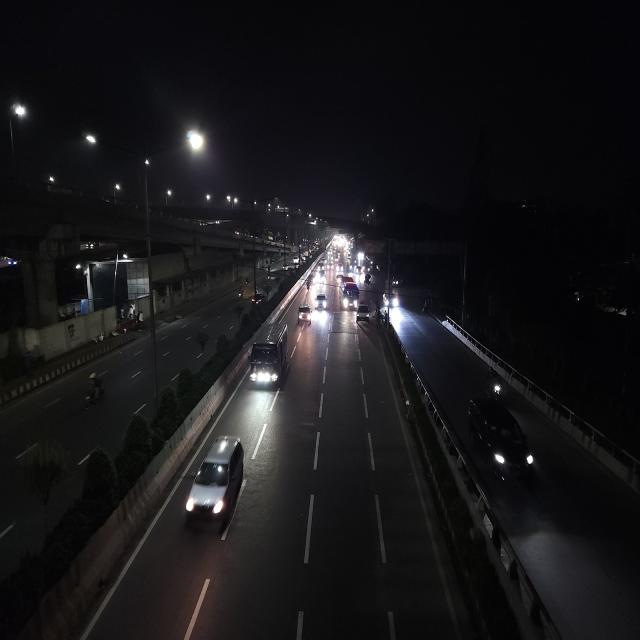bus: (248, 320, 290, 394), (340, 278, 360, 310)
car: (182, 430, 250, 540), (465, 395, 539, 487), (296, 302, 313, 327), (355, 302, 371, 325), (314, 292, 328, 312), (251, 289, 265, 306), (292, 254, 301, 265)
cng: (391, 273, 401, 290)
motorcycle: (80, 368, 110, 416), (484, 367, 505, 403), (237, 287, 244, 303), (306, 278, 311, 294), (267, 268, 271, 283)
